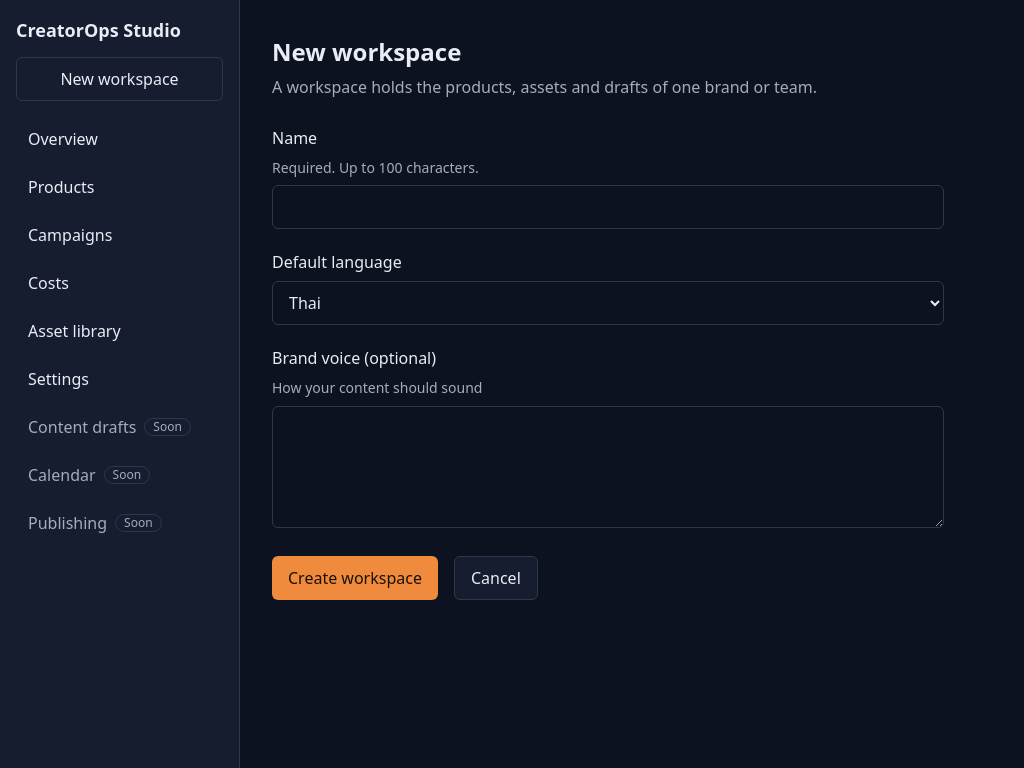
Test case: NewWorkspacePage › maps a server field error to its field
This screenshot has width=1024, height=768.
In the field labelled "Name": (608, 207) [272,185,944,229], type "Studio Two"
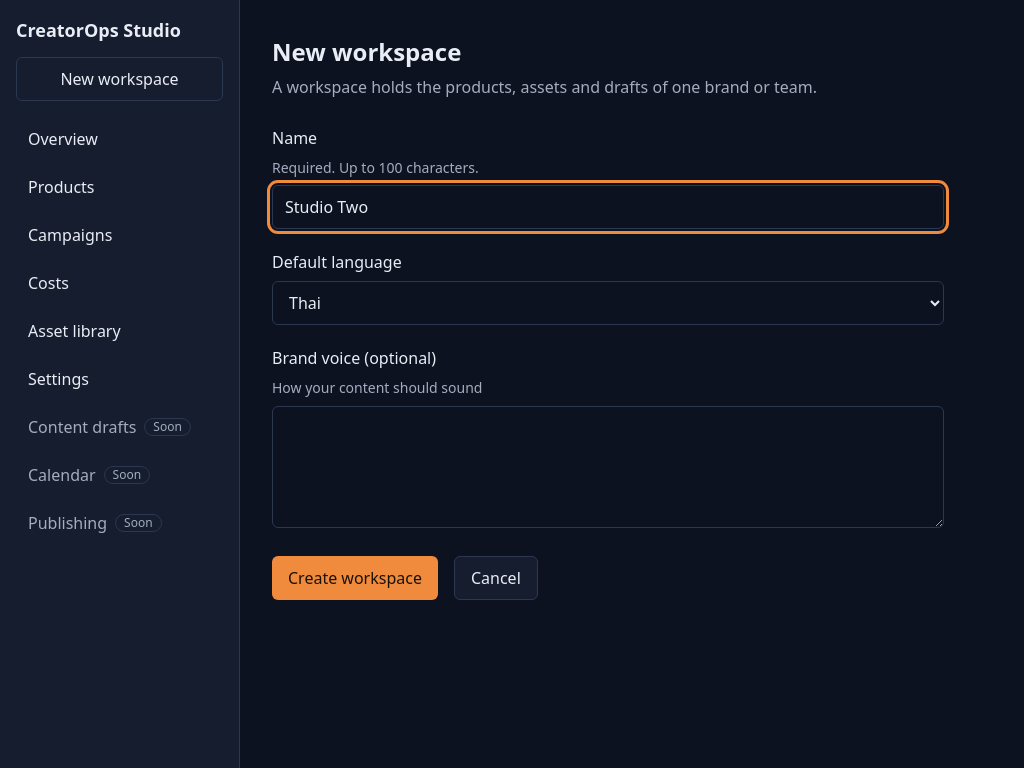
Click the button "Create workspace": (355, 578) [272,556,438,600]
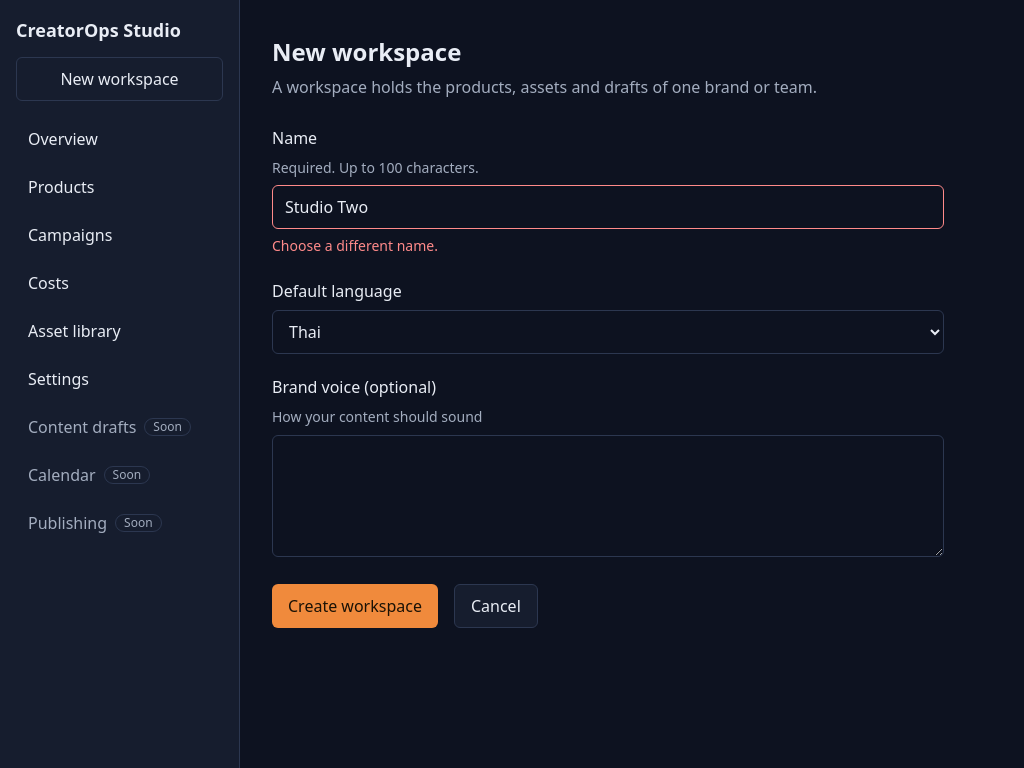
Expected: the text "Choose a different name." is shown, [272,236,438,255]
